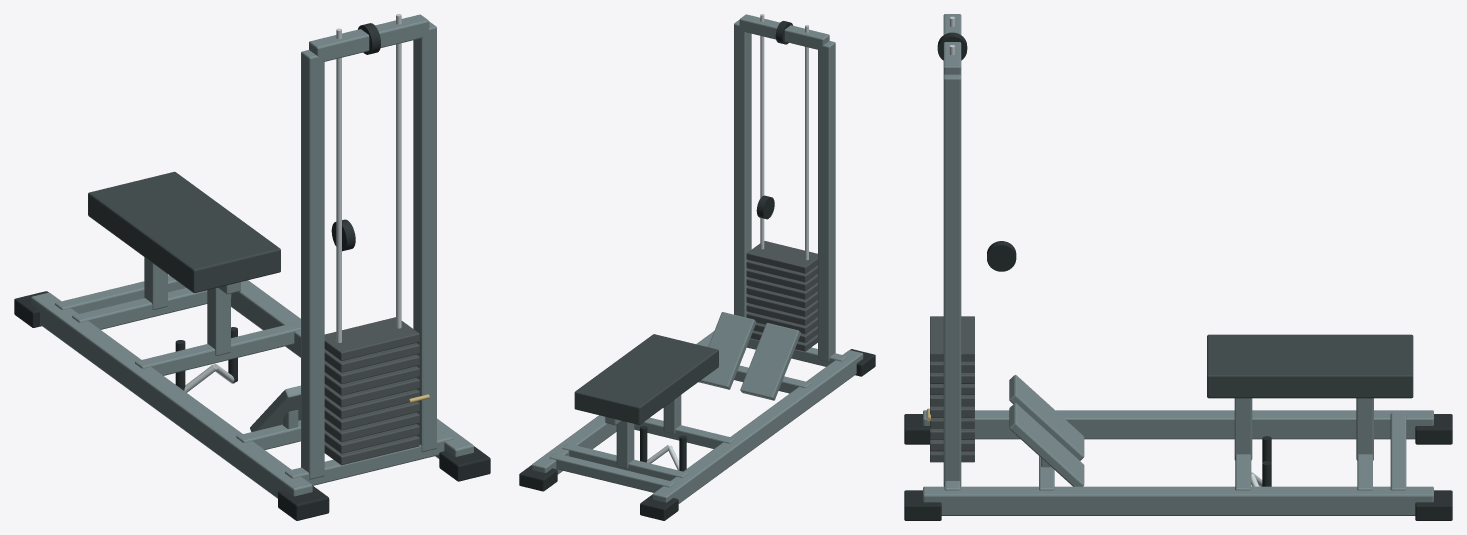
File: cable-row-machine.v1.glb
3 views of the same model, side by side, from view 1: azimuth 30°, elevation 25°; view 2: azimuth 150°, elevation 25°; view 3: azimuth 270°, elevation 25° (orthographic). The views are drawn at different scales.
Parts seen in each view (by area): view 1: Base crossmember, Seat, Moving stack plate, Floor shoe, Weight guide, Row grip; view 2: Base crossmember, Seat, Moving stack plate, Floor shoe, Weight guide, Row grip; view 3: Base crossmember, Seat, Floor shoe, Moving stack plate.
Part boxes in pixels (x1=…): Base crossmember: x1=31, y1=14, x2=473, y2=498; Seat: x1=88, y1=171, x2=280, y2=292; Moving stack plate: x1=324, y1=317, x2=419, y2=465; Floor shoe: x1=14, y1=23, x2=490, y2=520; Weight guide: x1=336, y1=14, x2=401, y2=342; Row grip: x1=175, y1=327, x2=237, y2=390; Base crossmember: x1=531, y1=14, x2=863, y2=503; Seat: x1=574, y1=334, x2=718, y2=424; Moving stack plate: x1=746, y1=241, x2=817, y2=351; Floor shoe: x1=519, y1=21, x2=875, y2=520; Weight guide: x1=760, y1=14, x2=808, y2=260; Row grip: x1=640, y1=426, x2=686, y2=471; Base crossmember: x1=923, y1=14, x2=1433, y2=515; Seat: x1=1207, y1=334, x2=1413, y2=398; Floor shoe: x1=904, y1=32, x2=1452, y2=520; Moving stack plate: x1=930, y1=316, x2=974, y2=462.
Size of the model in its own units: 1.11 by 2.64 by 2.79.
